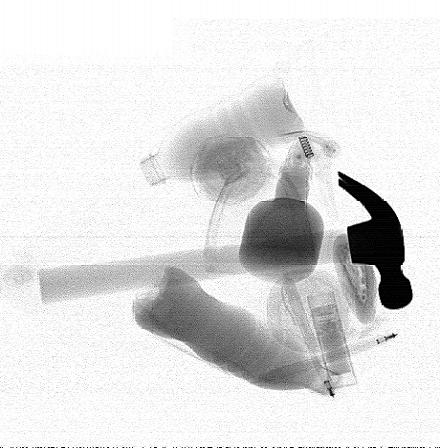Hammer: (37, 170, 413, 311)
